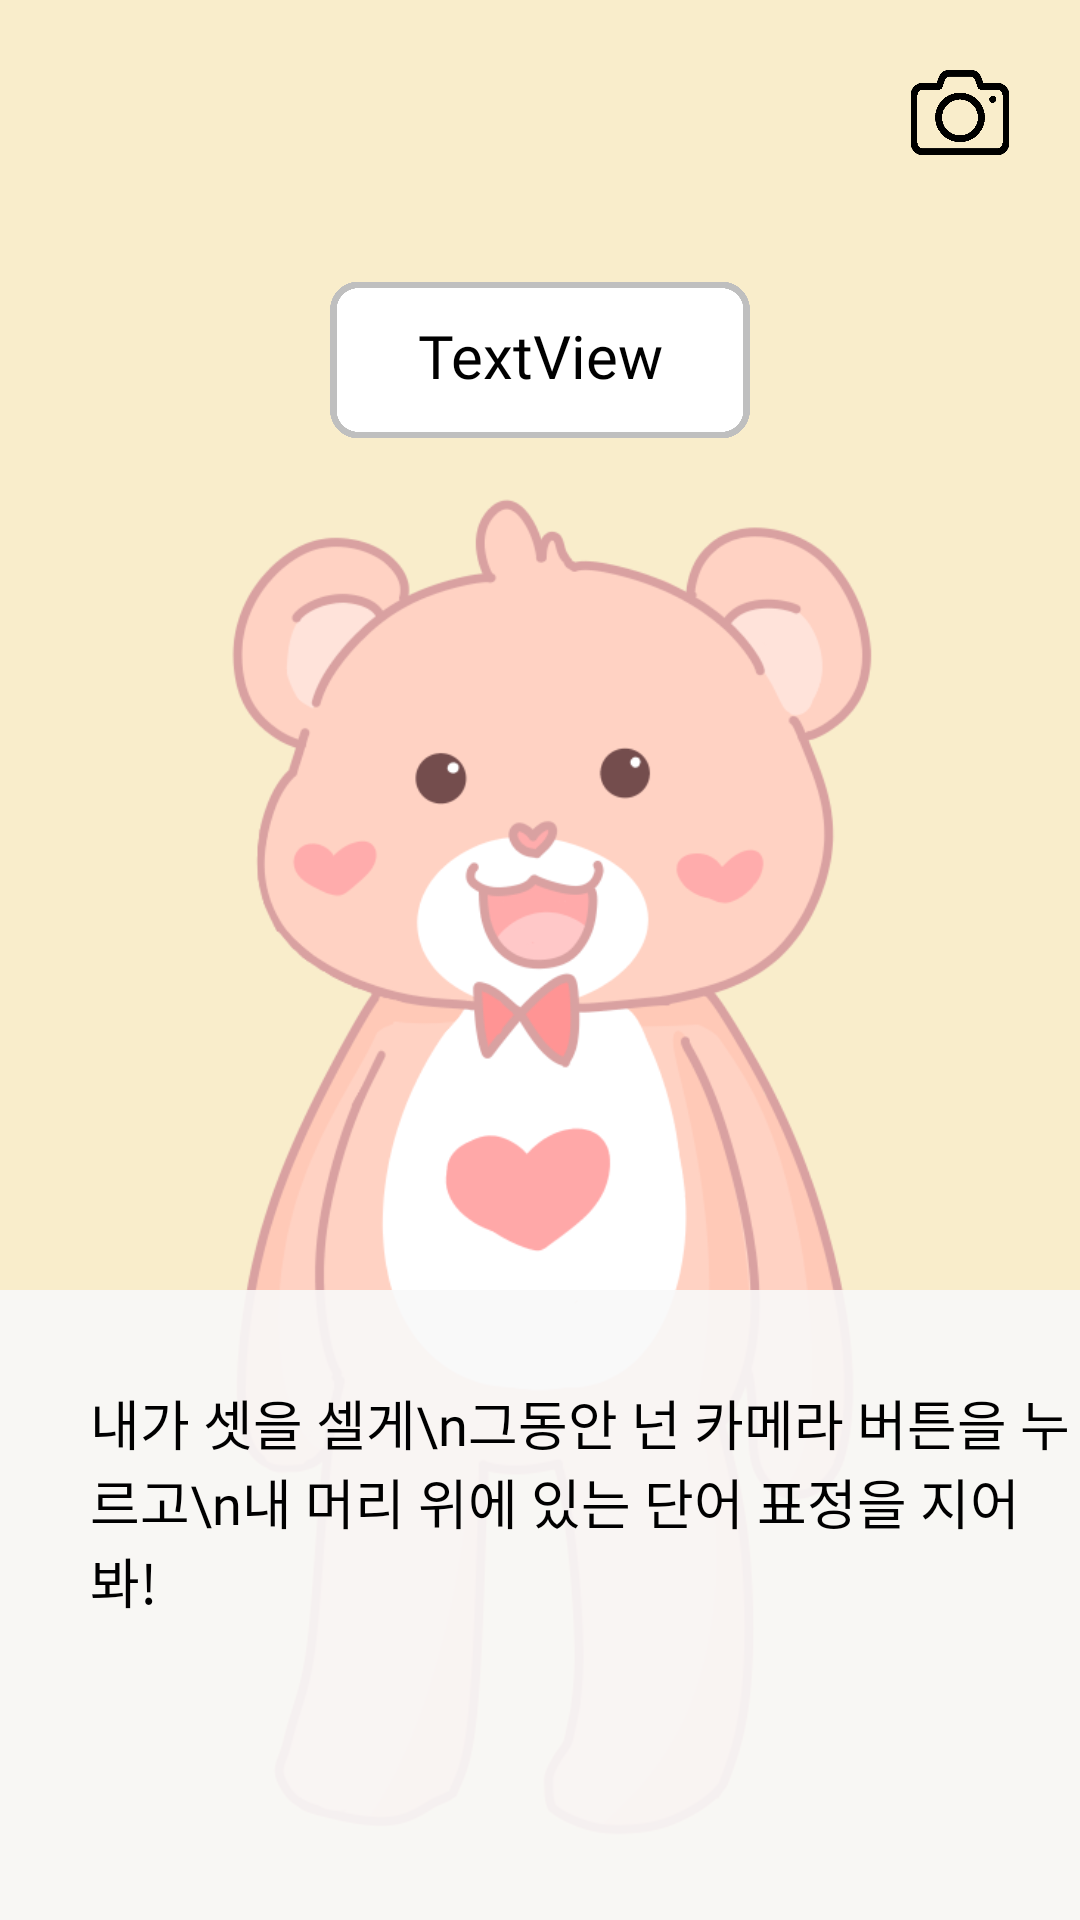

Screen size 1080px x 1920px. Icon name, then its box in pixels as bbox=[x1, y1, x2, y2]:
camera: bbox=[911, 70, 1009, 155]
